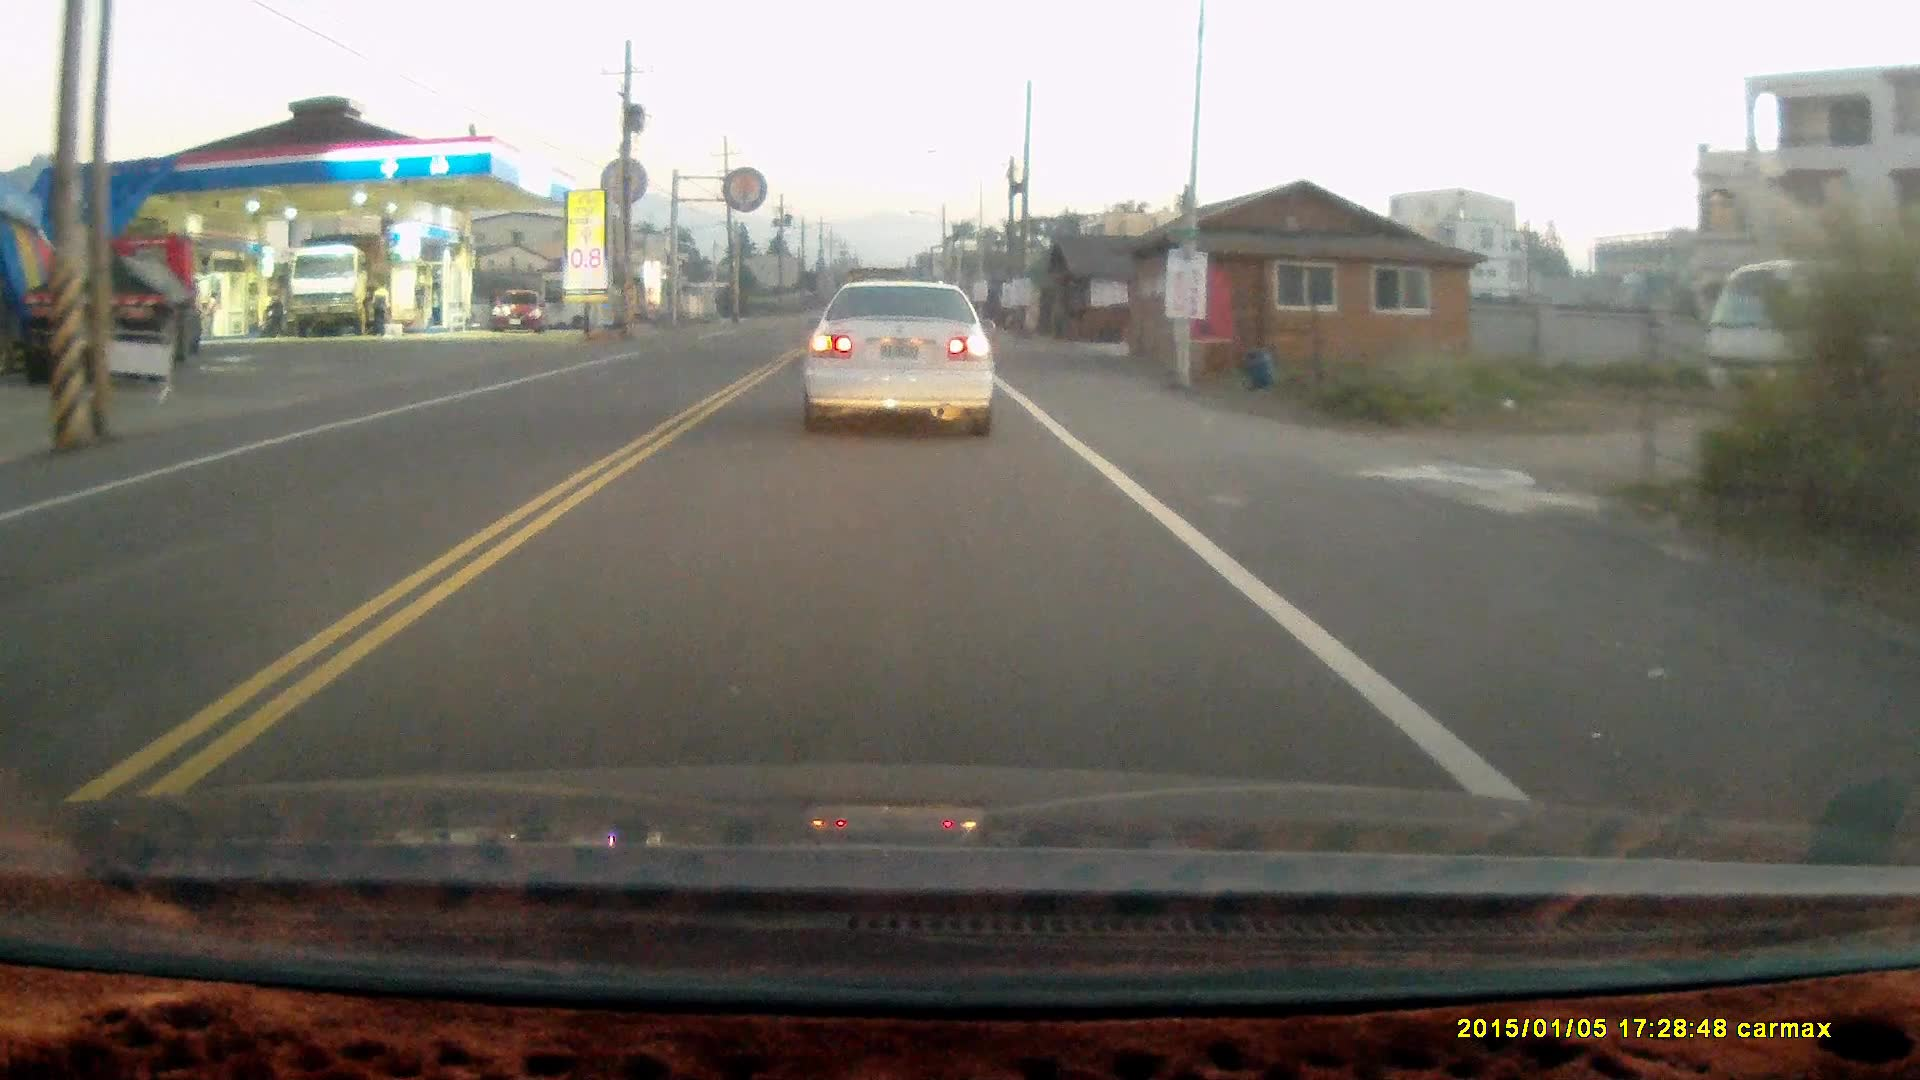pedestrian: (366, 279, 393, 331)
vehicle: (797, 276, 1003, 441), (54, 229, 207, 377), (290, 244, 391, 341), (495, 294, 545, 336)
